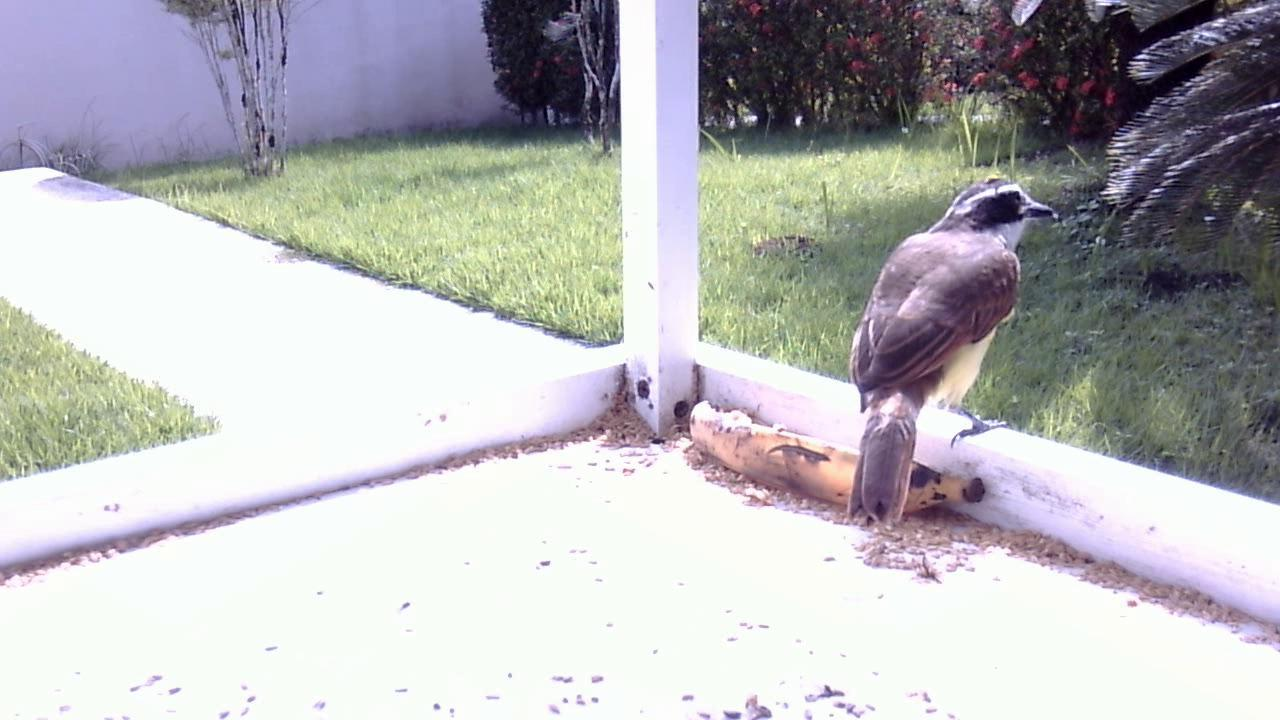bem_te_vi: (841, 171, 1062, 535)
